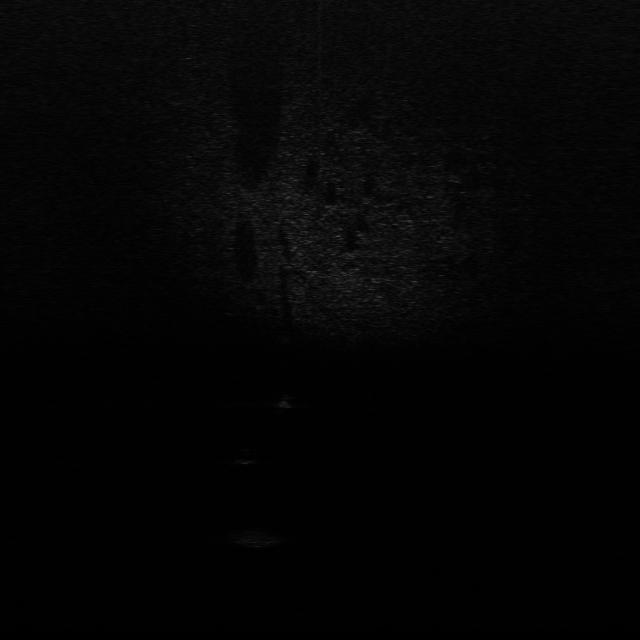ball: (236, 447, 260, 466)
circle cage: (223, 524, 296, 550)
human body: (272, 390, 294, 415)
